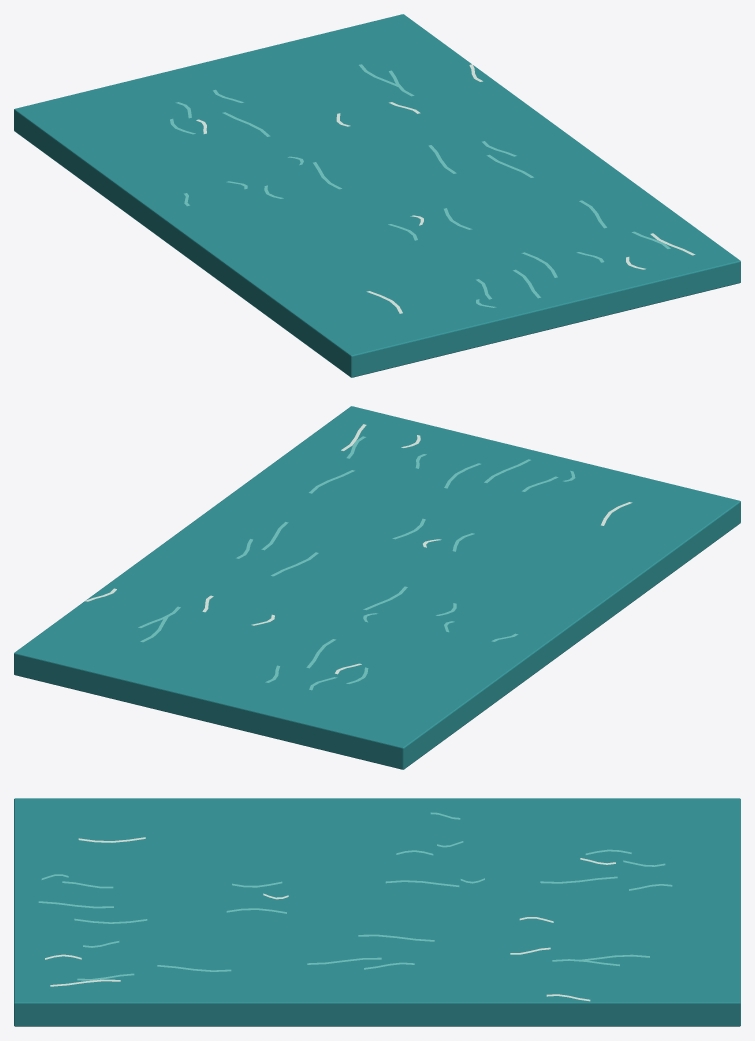
The model's file is ashwick-river-reach.meshopt.glb.
The picture shows the model from 3 angles, top to bottom: view 1: azimuth 30°, elevation 25°; view 2: azimuth 150°, elevation 25°; view 3: azimuth 270°, elevation 25°; orthographic projection. The views are drawn at different scales.
Parts seen in each view (by area): view 1: River surface.001, Current streak.003, Current streak.002; view 2: River surface.001, Current streak.003, Current streak.002; view 3: River surface.001, Current streak.003, Current streak.002.
Boxes of the visible parts, x1,y1,x2,y2 form: River surface.001: (14, 14, 740, 377); Current streak.003: (170, 64, 670, 307); Current streak.002: (196, 64, 695, 313); River surface.001: (14, 406, 740, 769); Current streak.003: (138, 436, 575, 690); Current streak.002: (85, 424, 632, 674); River surface.001: (14, 798, 740, 1026); Current streak.003: (38, 812, 672, 980); Current streak.002: (45, 837, 615, 1001).
Bounding box in the file's own units: 4 × 0.228 × 6.
